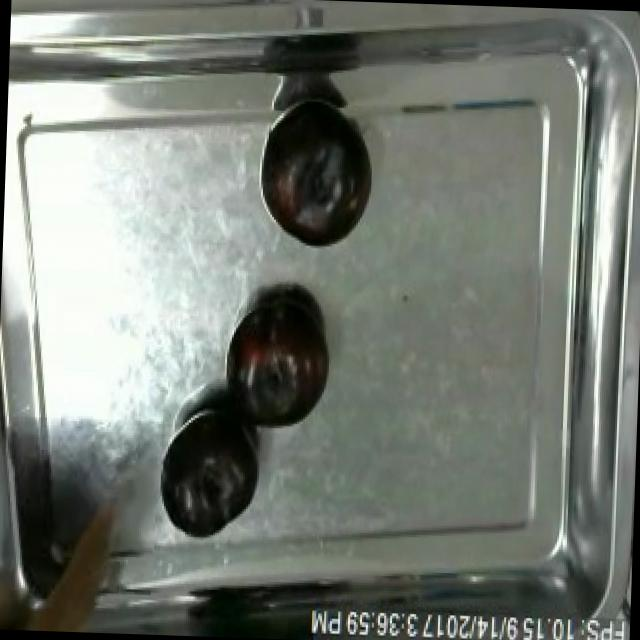Fruit: (258, 97, 378, 255), (152, 396, 269, 552), (218, 286, 337, 439)
